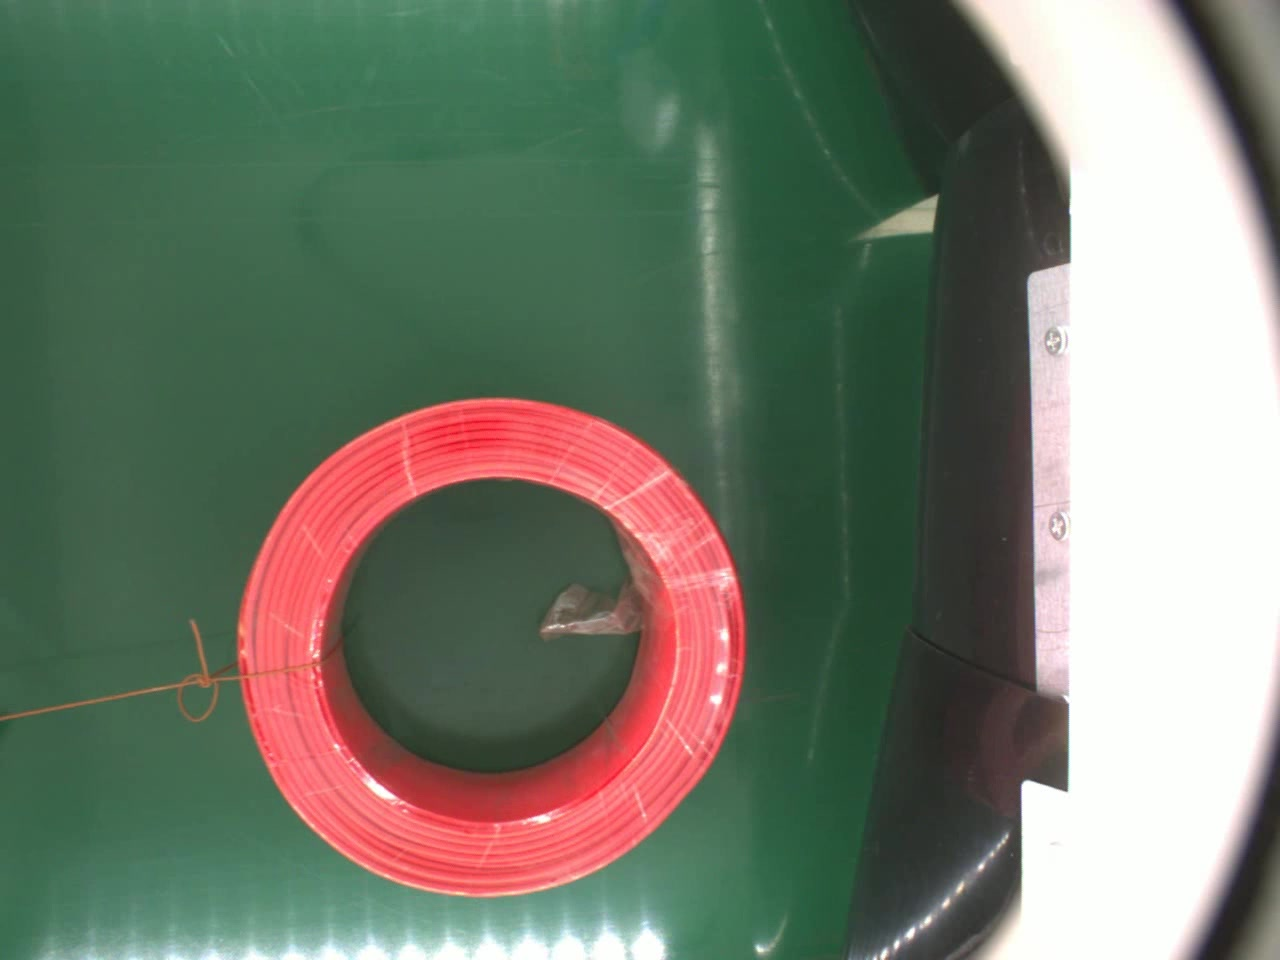red: (235, 392, 753, 903)
